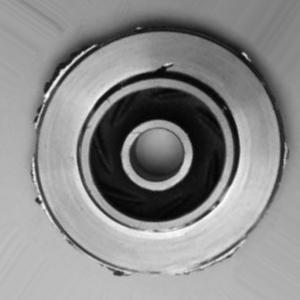casting_with_burr: (26, 21, 291, 279)
crack: (144, 54, 186, 77)
scratch: (130, 221, 196, 247)
